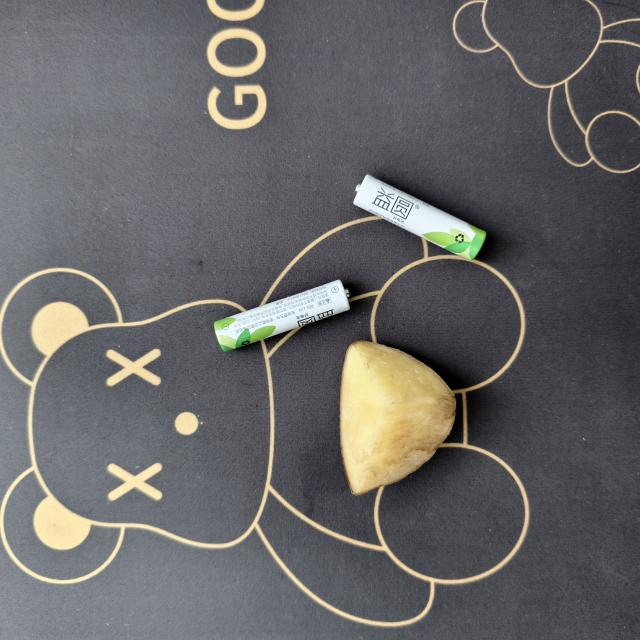-Hazardous waste - battery-: (349, 168, 489, 263), (214, 275, 352, 356)
-Kitchen waste - potato-: (342, 338, 458, 497)
